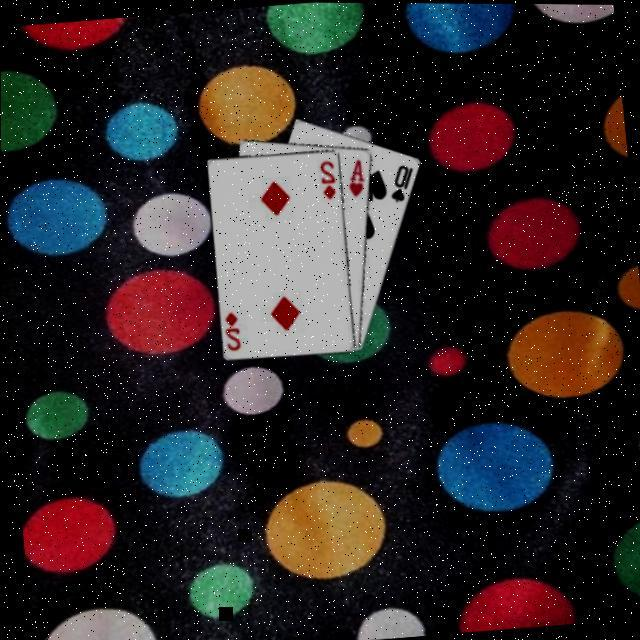10S: (382, 160, 417, 203)
2D: (314, 156, 338, 200), (218, 308, 242, 352)
AH: (341, 154, 367, 198)
